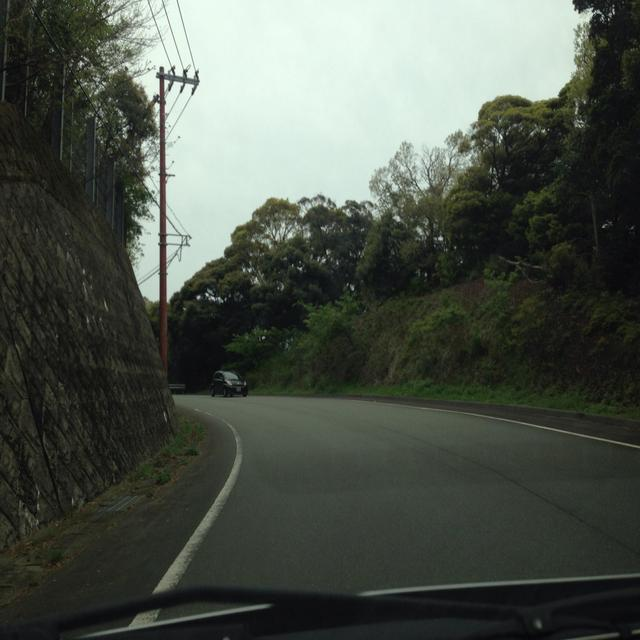Car: (210, 369, 248, 397)
Manhole: (95, 494, 144, 512)
Vegetation: (31, 0, 180, 152), (132, 413, 204, 485)
